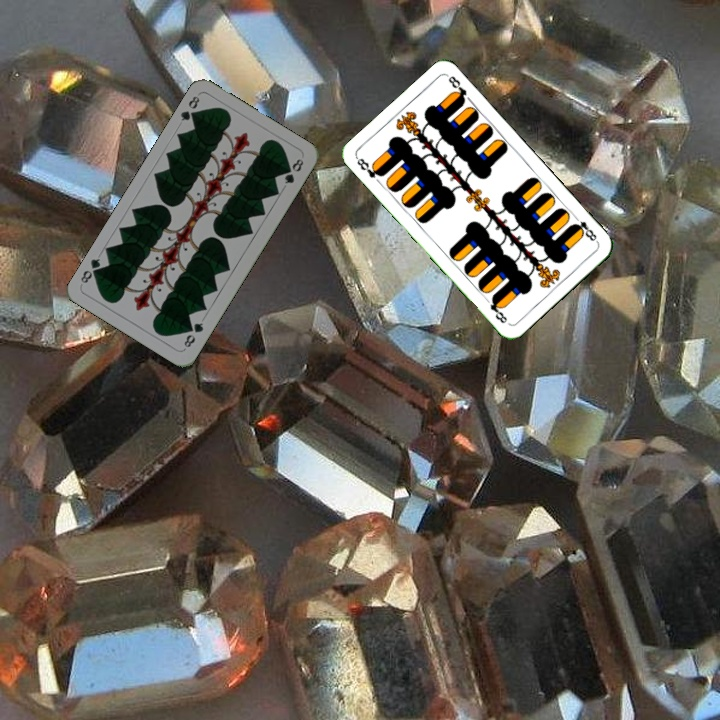E8: (569, 211, 600, 245), (353, 154, 386, 181)
G8: (176, 92, 202, 124), (180, 319, 206, 350)
